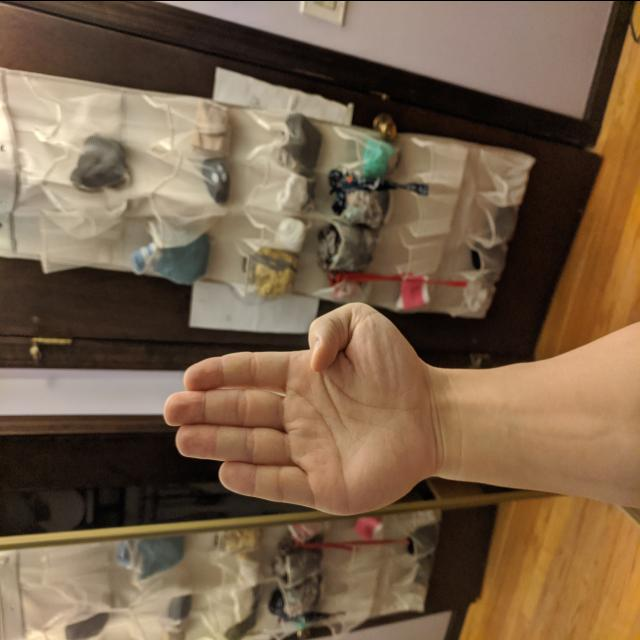B: (158, 296, 440, 522)
